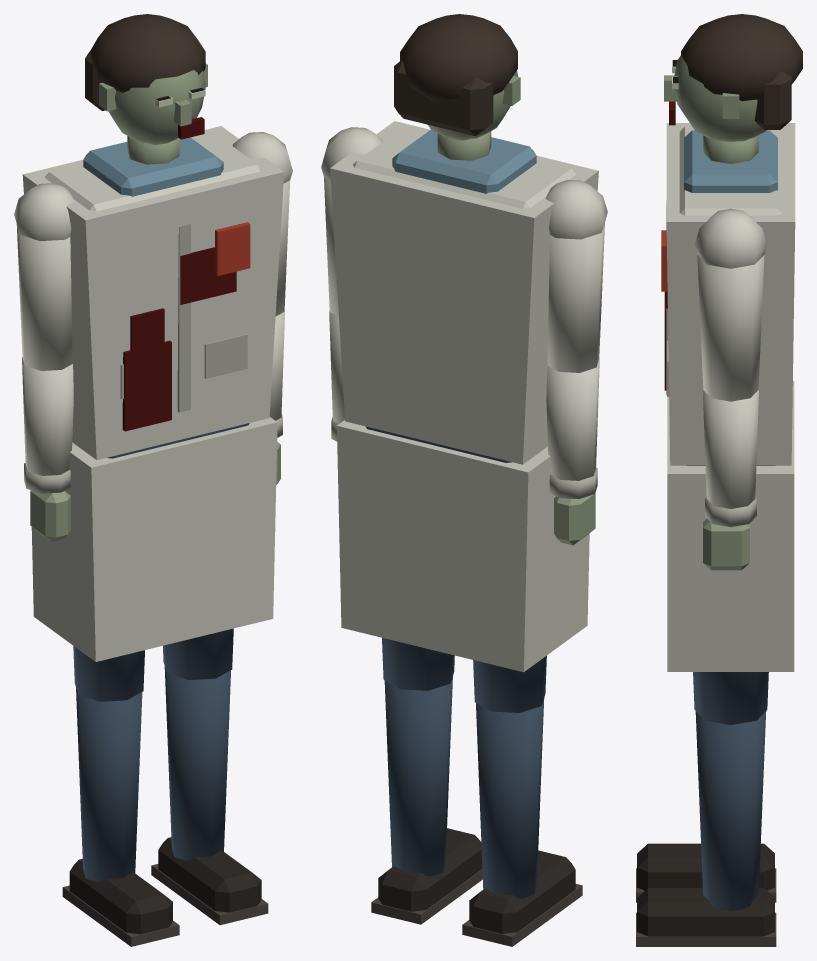
File: zombie_h.glb
The picture shows the model from 3 angles, left to right: view 1: azimuth 30°, elevation 25°; view 2: azimuth 150°, elevation 25°; view 3: azimuth 270°, elevation 25°; orthographic projection. The views are drawn at different scales.
Visible parts, largest first — view 1: Torso, Hips, ShinR, ShinL, Head, ArmR, ForearmR, LegR, LegL, ArmL, ForearmL; view 2: Torso, Hips, ShinR, ShinL, Head, ArmR, ForearmR, LegR, LegL, ArmL, ForearmL; view 3: Torso, Hips, ShinL, Head, ArmL, ForearmL, ShinR, LegL.
Boxes of the visible parts, bbox=[...] form: Torso: bbox=[22, 126, 284, 459]; Hips: bbox=[31, 417, 277, 661]; ShinR: bbox=[62, 688, 179, 946]; ShinL: bbox=[151, 666, 268, 925]; Head: bbox=[85, 14, 207, 164]; ArmR: bbox=[14, 183, 74, 370]; ForearmR: bbox=[22, 357, 73, 541]; LegR: bbox=[73, 646, 144, 701]; LegL: bbox=[163, 628, 233, 679]; ArmL: bbox=[232, 132, 292, 316]; ForearmL: bbox=[269, 311, 284, 484]; Torso: bbox=[330, 121, 598, 464]; Hips: bbox=[337, 420, 589, 672]; ShinR: bbox=[462, 698, 582, 946]; ShinL: bbox=[371, 676, 482, 924]; Head: bbox=[394, 14, 520, 160]; ArmR: bbox=[545, 180, 607, 372]; ForearmR: bbox=[546, 358, 599, 545]; LegR: bbox=[473, 655, 546, 712]; LegL: bbox=[382, 638, 454, 690]; ArmL: bbox=[321, 127, 383, 316]; ForearmL: bbox=[329, 311, 344, 441]; Torso: bbox=[661, 123, 795, 465]; Hips: bbox=[667, 381, 794, 671]; ShinL: bbox=[636, 711, 776, 946]; Head: bbox=[664, 14, 802, 163]; ArmL: bbox=[694, 208, 767, 401]; ForearmL: bbox=[702, 390, 758, 570]; ShinR: bbox=[636, 843, 776, 902]; LegL: bbox=[693, 672, 768, 724].
Bounding box in the file's own units: 0.582 × 1.78 × 0.3026.
